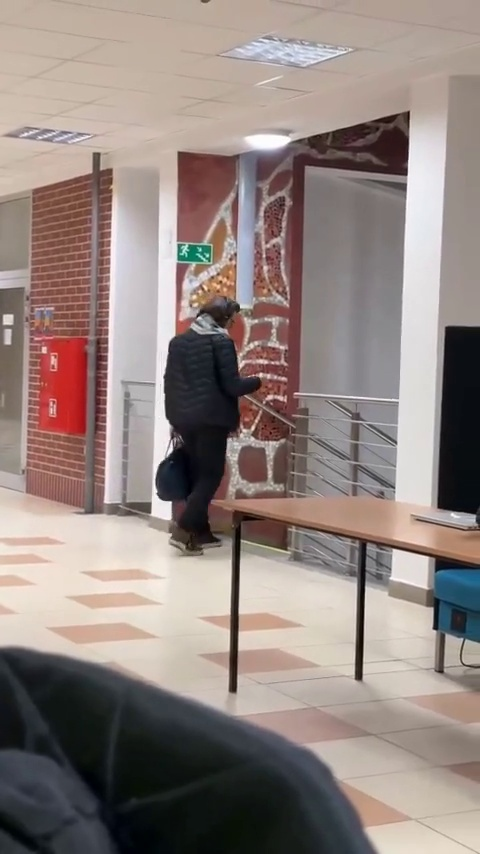no vest: (158, 296, 264, 558)
